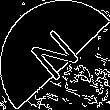N_SE: (24, 23, 86, 87)
